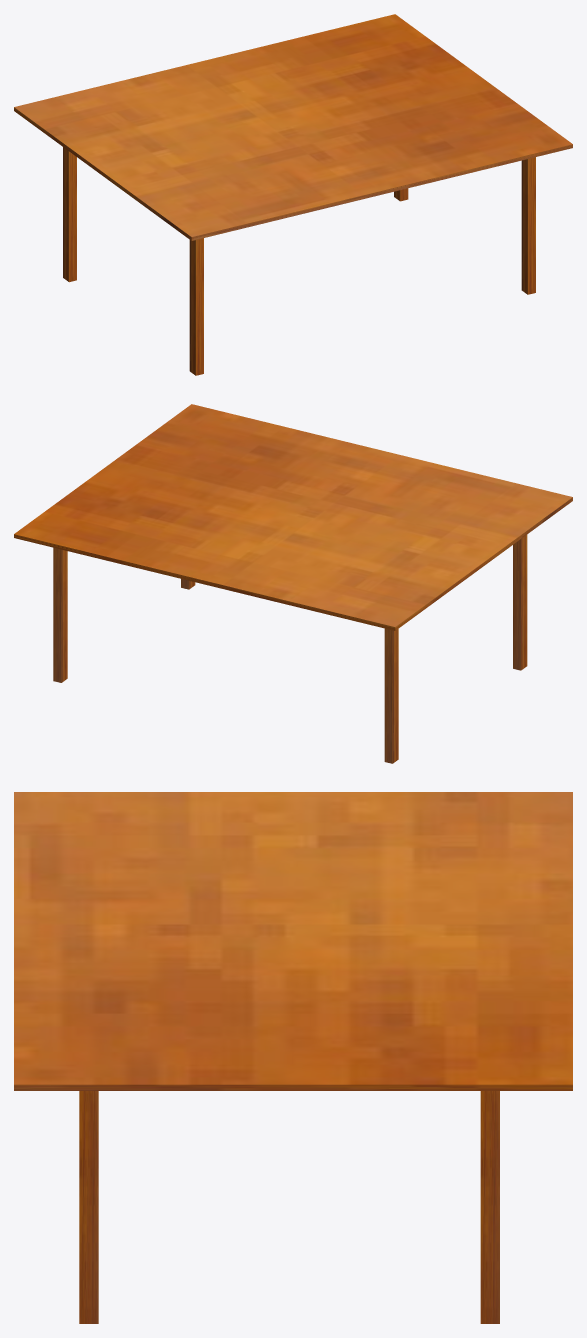
File: stol.fbx
3 renders of one model, top to bottom at view 1: azimuth 30°, elevation 25°; view 2: azimuth 150°, elevation 25°; view 3: azimuth 270°, elevation 25°, orthographic. The views are drawn at different scales.
Visible parts, largest first — view 1: Cube.004, Cube.003, Cube, Cube.002; view 2: Cube.004, Cube.002, Cube.001, Cube.003; view 3: Cube.004, Cube, Cube.001.
Part boxes in pixels (x1,y1,x2,y2): Cube.004: (14,14,572,240); Cube.003: (189,238,203,375); Cube: (521,157,535,294); Cube.002: (63,147,76,282); Cube.004: (14,404,572,630); Cube.002: (384,628,398,763); Cube.001: (53,547,67,682); Cube.003: (513,535,527,670); Cube.004: (14,792,572,1090); Cube: (79,1091,98,1323); Cube.001: (480,1091,499,1323).
Size of the model in its own units: 1277 by 512 by 1031.
